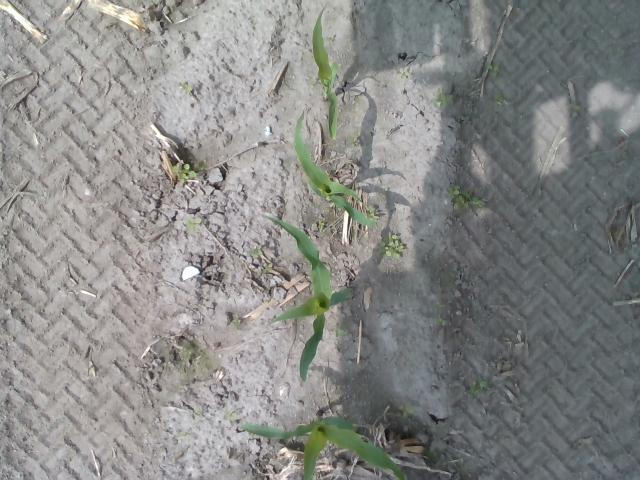Maize: (268, 214, 354, 385), (290, 105, 382, 231), (236, 411, 402, 480), (312, 3, 343, 140)
Weeds: (449, 186, 492, 209), (376, 234, 406, 260), (170, 159, 198, 183), (434, 91, 454, 107), (471, 375, 488, 393), (398, 402, 415, 418), (187, 216, 201, 232), (485, 63, 499, 78), (366, 205, 379, 218), (336, 326, 351, 336), (182, 344, 191, 360), (248, 247, 262, 257), (434, 317, 448, 326), (180, 81, 192, 91), (494, 94, 505, 104), (232, 318, 241, 328), (318, 220, 324, 233), (261, 266, 268, 272)
